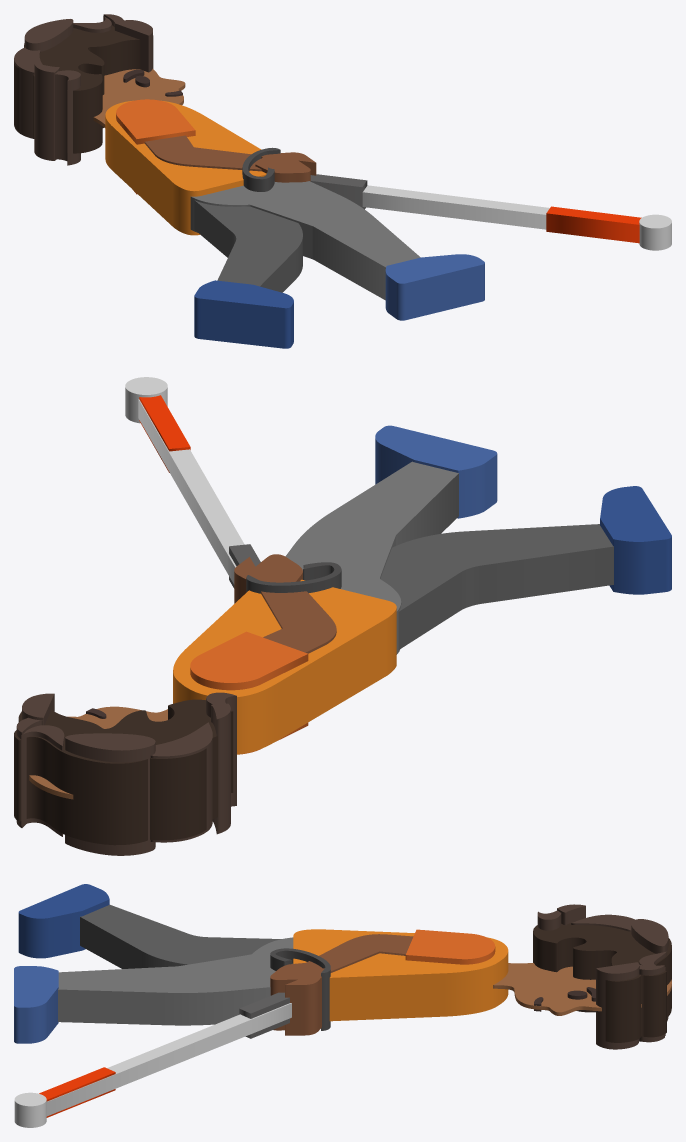
The model's file is emoji_u1f9d1_1f3fe_200d_1f9af_200d_27a1.glb.
3 renders of one model, top to bottom at view 1: azimuth 30°, elevation 25°; view 2: azimuth 150°, elevation 25°; view 3: azimuth 270°, elevation 25°, orthographic. The views are drawn at different scales.
Visible parts, largest first — view 1: emoji_u1f9d1_1f3fe_200d_1f9af_200d_27a1; view 2: emoji_u1f9d1_1f3fe_200d_1f9af_200d_27a1; view 3: emoji_u1f9d1_1f3fe_200d_1f9af_200d_27a1.
Boxes of the visible parts, x1=… form: emoji_u1f9d1_1f3fe_200d_1f9af_200d_27a1: x1=14, y1=14, x2=671, y2=348; emoji_u1f9d1_1f3fe_200d_1f9af_200d_27a1: x1=14, y1=377, x2=671, y2=855; emoji_u1f9d1_1f3fe_200d_1f9af_200d_27a1: x1=14, y1=884, x2=671, y2=1127.
Size of the model in its own units: 0.0253 by 0.0048 by 0.033.
